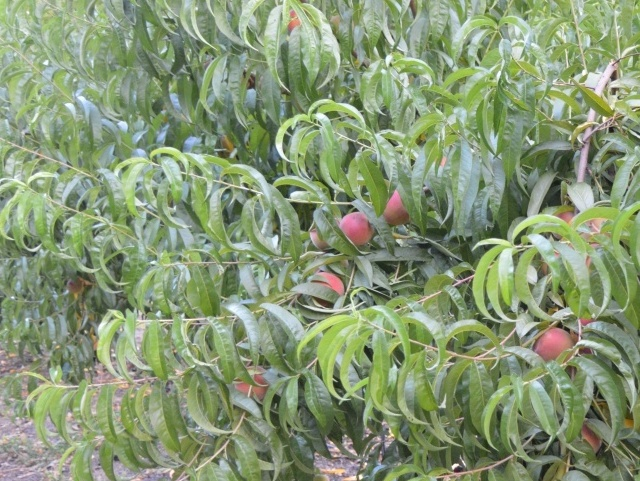peach: (528, 322, 578, 371), (565, 306, 604, 356), (232, 363, 276, 403), (334, 210, 376, 250), (309, 270, 348, 310), (379, 189, 412, 230), (545, 206, 579, 243), (579, 417, 609, 456), (304, 223, 336, 258)
